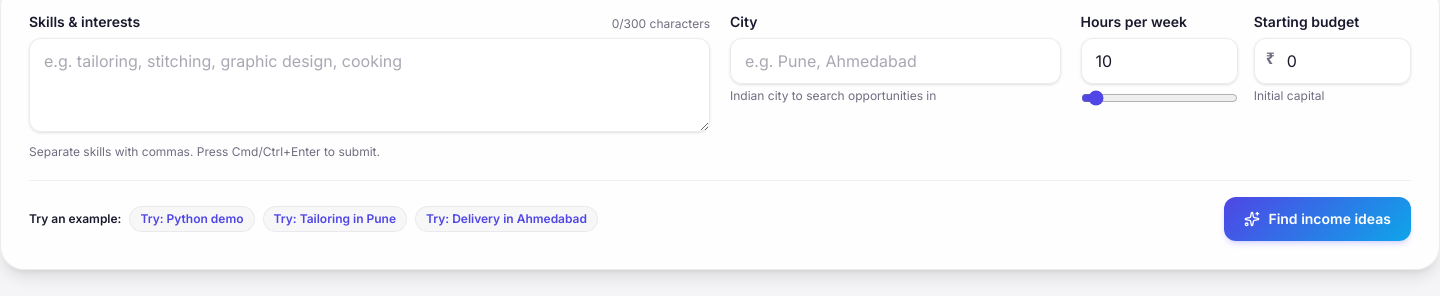
Test: ProfileForm › shows a live character counter and syncs the hours slider
The width and height of the screenshot is (1440, 296).
Check: the text "0/300 characters" is shown, box [612, 16, 710, 32]
Type "abc" into the text box labelled "Skills & interests" at (370, 85), box [29, 38, 710, 132]
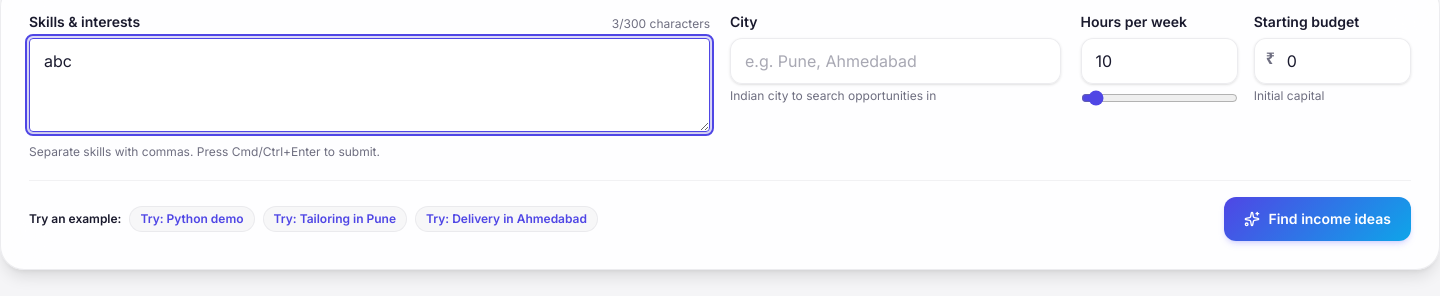
Check: the text "3/300 characters" is shown, box [612, 16, 710, 32]
Set the slider named "hours per week slider" to "20" at (1105, 98), box [1080, 94, 1238, 102]
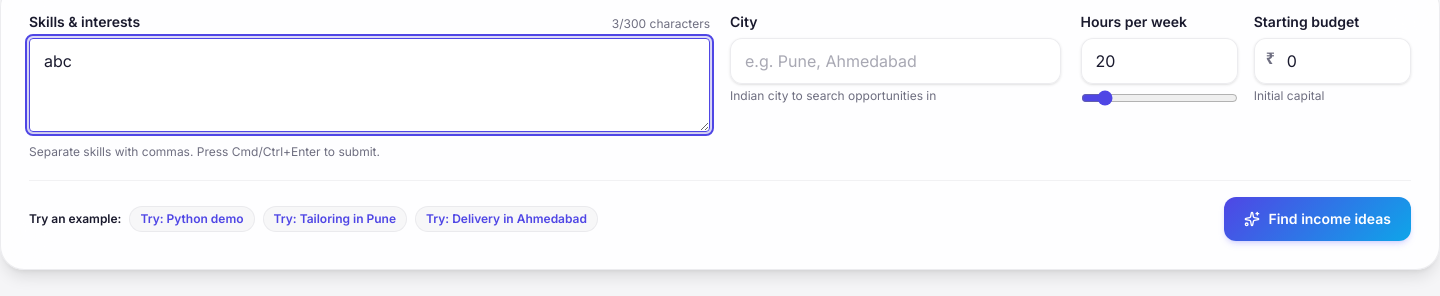
Check: the number field labelled "Hours per week" holds "20", box [1080, 38, 1238, 84]
